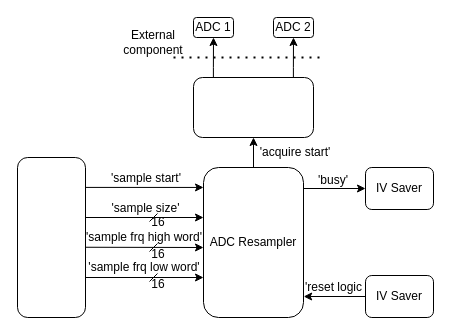
Some shapes in this 451 by 335 pixel diagram are drawn without their labels. Each missing label, with the centre of its shape:
ADC Control: pixel 253 107
Internal Memory: pixel 51 237
